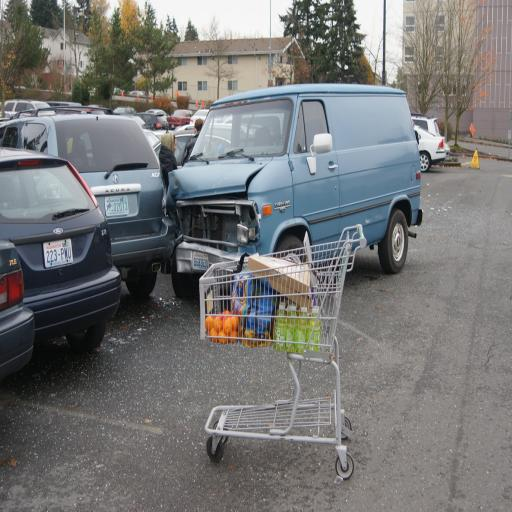shopping_cart: (194, 220, 370, 483)
